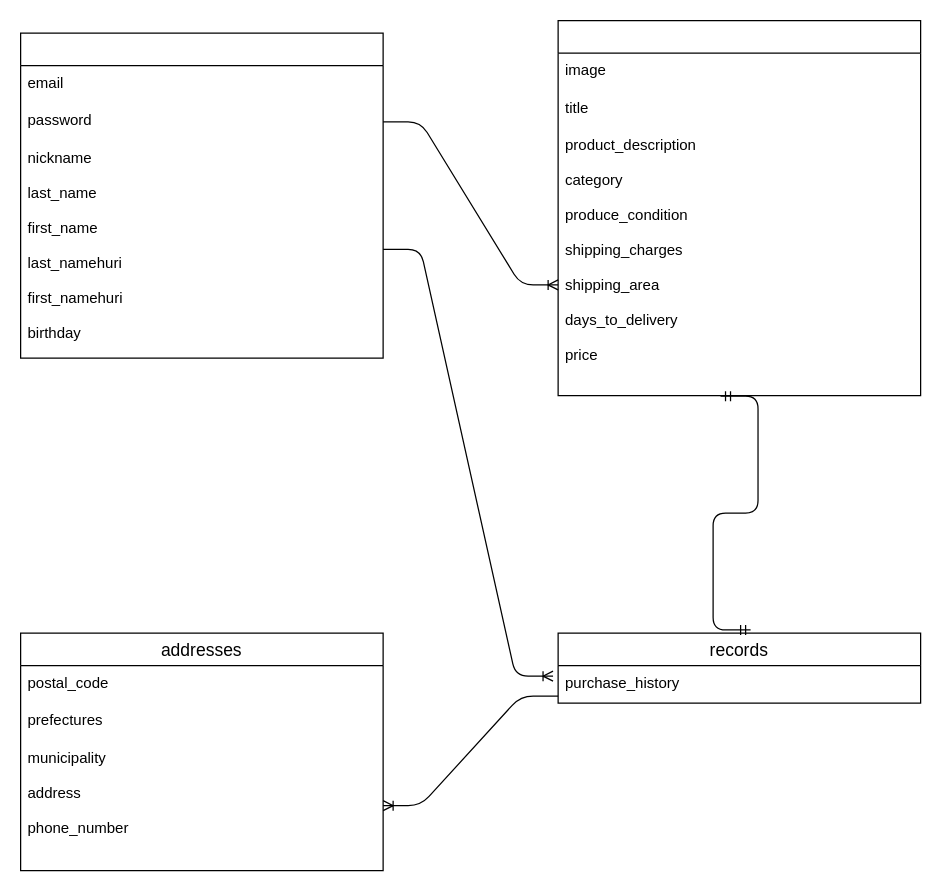
Some shapes in this 941 by 891 pixel diagram are drawn without their labels. Each missing label, with the box of its shape:
items: (557, 19, 921, 396)
users: (19, 32, 383, 358)
